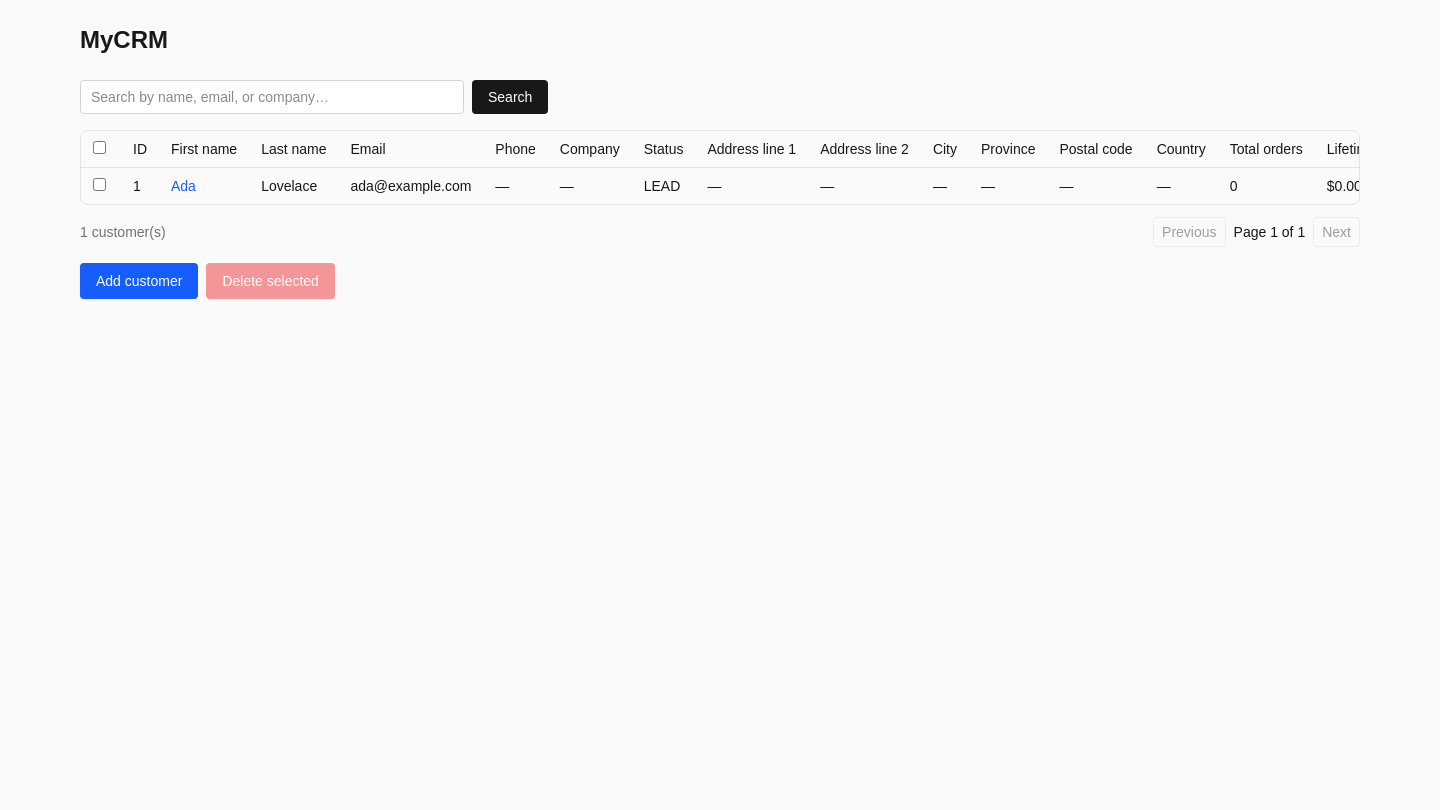
Home (landing page) › opens the Add customer modal when the Add button is clicked
This screenshot has width=1440, height=810.
Expected: the button "Ada" is shown, [171, 176, 196, 196]
Click the button "Add customer" at (139, 281), box [80, 263, 198, 299]
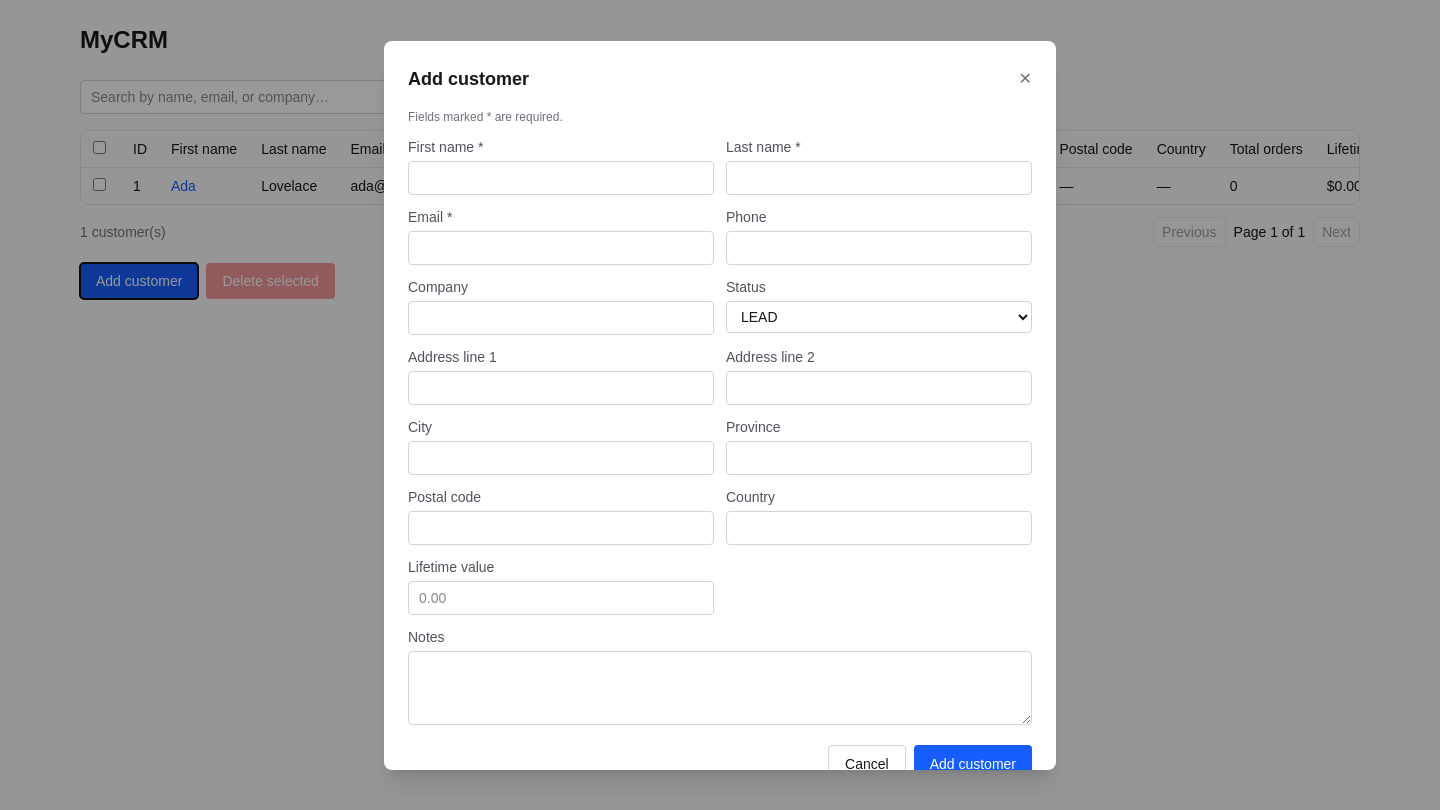
Now the heading "Add customer" is shown, box [408, 64, 529, 92]
